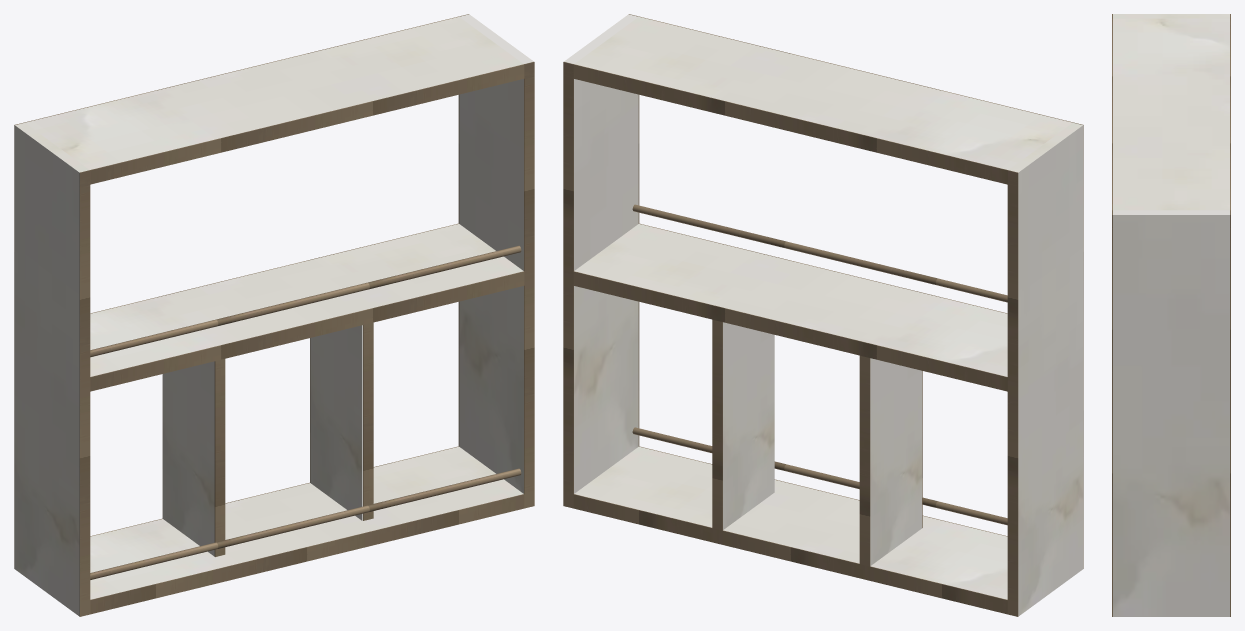
File: Tark 600mm A.glb
The picture shows the model from 3 angles, left to right: view 1: azimuth 30°, elevation 25°; view 2: azimuth 150°, elevation 25°; view 3: azimuth 270°, elevation 25°; orthographic projection. The views are drawn at different scales.
Bounding box in the file's own units: 0.6 × 0.56 × 0.15.
2 materials, 2 textured.
